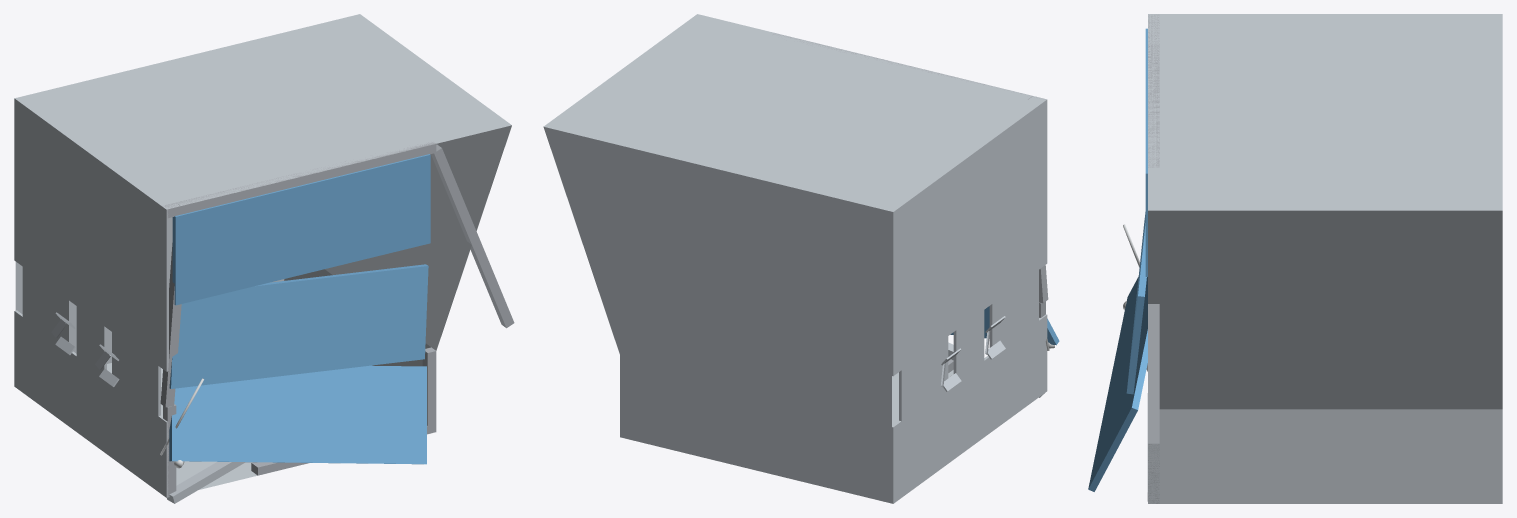
File: DamageULD.fbx
The picture shows the model from 3 angles, left to right: view 1: azimuth 30°, elevation 25°; view 2: azimuth 150°, elevation 25°; view 3: azimuth 270°, elevation 25°; orthographic projection. The views are drawn at different scales.
Parts seen in each view (by area): view 1: AKE_Main_Panels, Door_Panel_Mid_Dislodged, Door_Panel_Top, Door_Panel_Bot_Torn, Wall_L_Top, Wall_L_Bot, Wall_L_Fwd, Wall_L_Aft, Wall_L_Mid, Frame_Header, Frame_Sloped_Post, Frame_Post_L_Deformed (+3 smaller); view 2: AKE_Main_Panels, Wall_L_Aft, Wall_L_Fwd, Wall_L_Mid, Wall_L_Bot, Wall_L_Top; view 3: AKE_Main_Panels, Door_Panel_Bot_Torn, Frame_Sloped_Post, Frame_Header, Door_Panel_Mid_Dislodged, Door_Panel_Top.
Boxes of the visible parts, x1,y1,x2,y2 form: AKE_Main_Panels: (15, 14, 511, 489); Door_Panel_Mid_Dislodged: (169, 264, 428, 388); Door_Panel_Top: (172, 154, 430, 305); Door_Panel_Bot_Torn: (169, 365, 426, 464); Wall_L_Top: (14, 98, 168, 371); Wall_L_Bot: (14, 310, 168, 497); Wall_L_Fwd: (112, 169, 160, 485); Wall_L_Aft: (22, 104, 71, 423); Wall_L_Mid: (76, 143, 106, 451); Frame_Header: (164, 142, 436, 218); Frame_Sloped_Post: (431, 144, 514, 328); Frame_Post_L_Deformed: (160, 203, 188, 407); AKE_Main_Panels: (543, 14, 1045, 503); Wall_L_Aft: (899, 171, 948, 497); Wall_L_Fwd: (989, 105, 1038, 383); Wall_L_Mid: (953, 145, 984, 457); Wall_L_Bot: (891, 314, 1047, 503); Wall_L_Top: (890, 99, 1047, 376); AKE_Main_Panels: (1148, 14, 1502, 503); Door_Panel_Bot_Torn: (1088, 277, 1147, 491); Frame_Sloped_Post: (1148, 304, 1159, 443); Frame_Header: (1148, 14, 1159, 167); Door_Panel_Mid_Dislodged: (1126, 212, 1146, 394); Door_Panel_Top: (1145, 28, 1147, 276).
Size of the model in its own units: 206 by 164 by 179.
